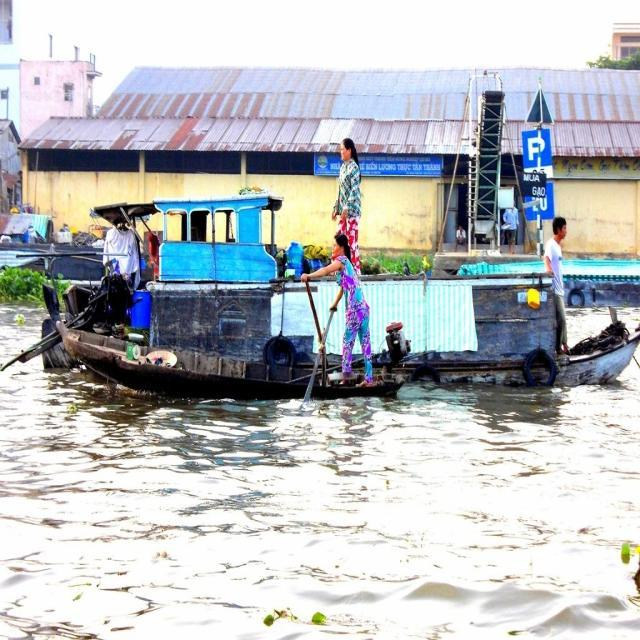Hyacinth: (0, 269, 57, 302)
boat: (46, 284, 572, 390), (52, 328, 412, 408)
